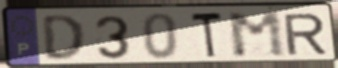0: (140, 11, 182, 62)
3: (92, 14, 131, 61)
D: (40, 13, 88, 64)
M: (225, 10, 290, 60)
R: (280, 11, 329, 57)
T: (189, 10, 225, 61)
